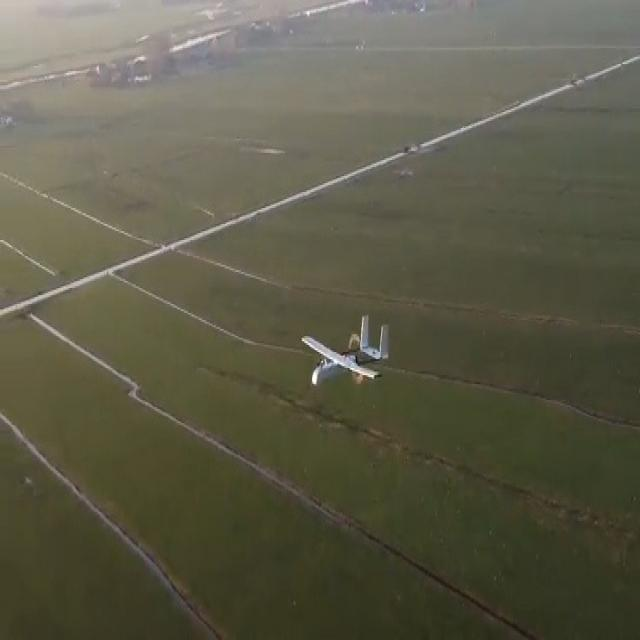iha: (333, 324, 361, 382)
